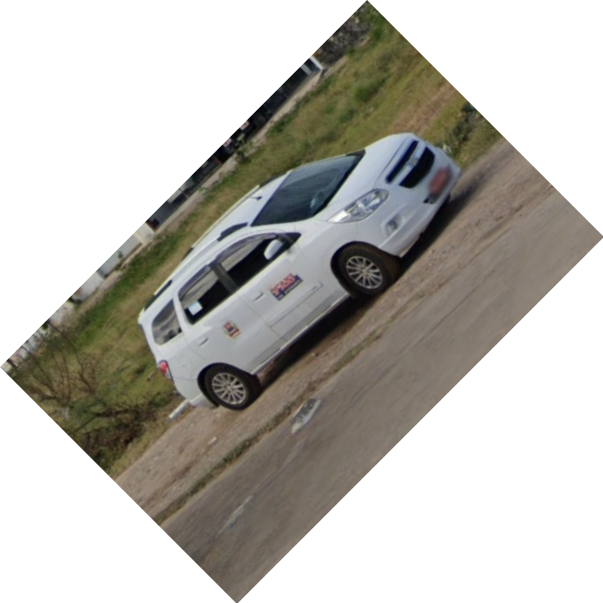car: (135, 134, 462, 414)
